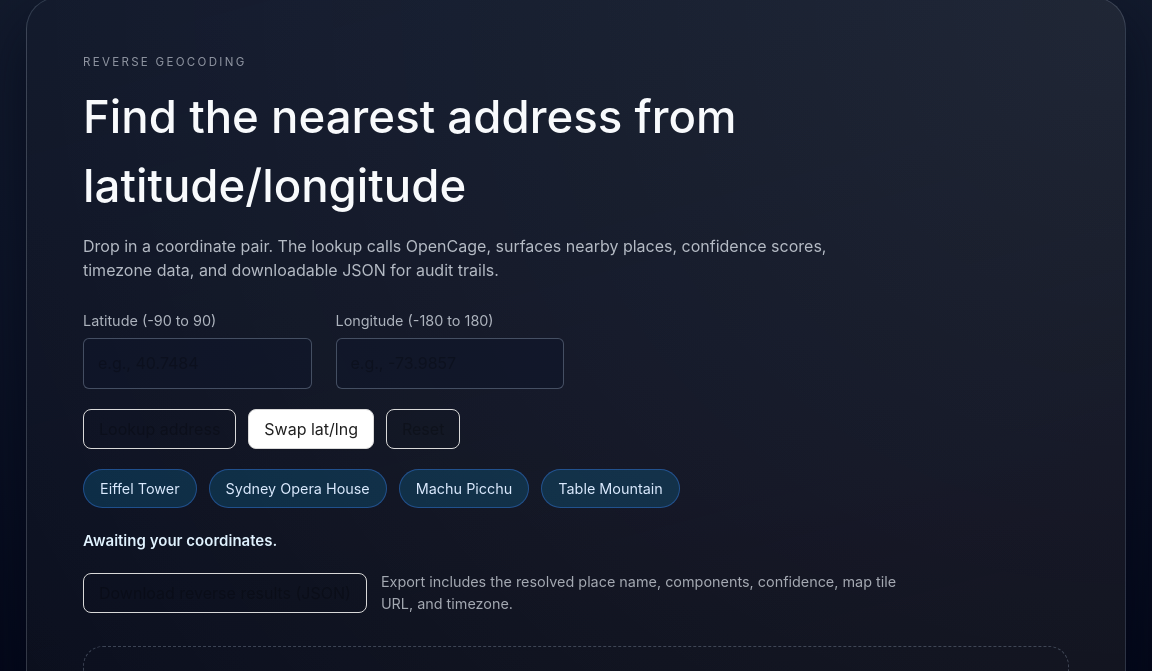
Test: ReverseGeocodeDemo › handles API failures gracefully (negative)
The image size is (1152, 671).
Type "34" into the field labelled "Latitude (-90 to 90)" at x=197, y=363, box [83,338,312,389]
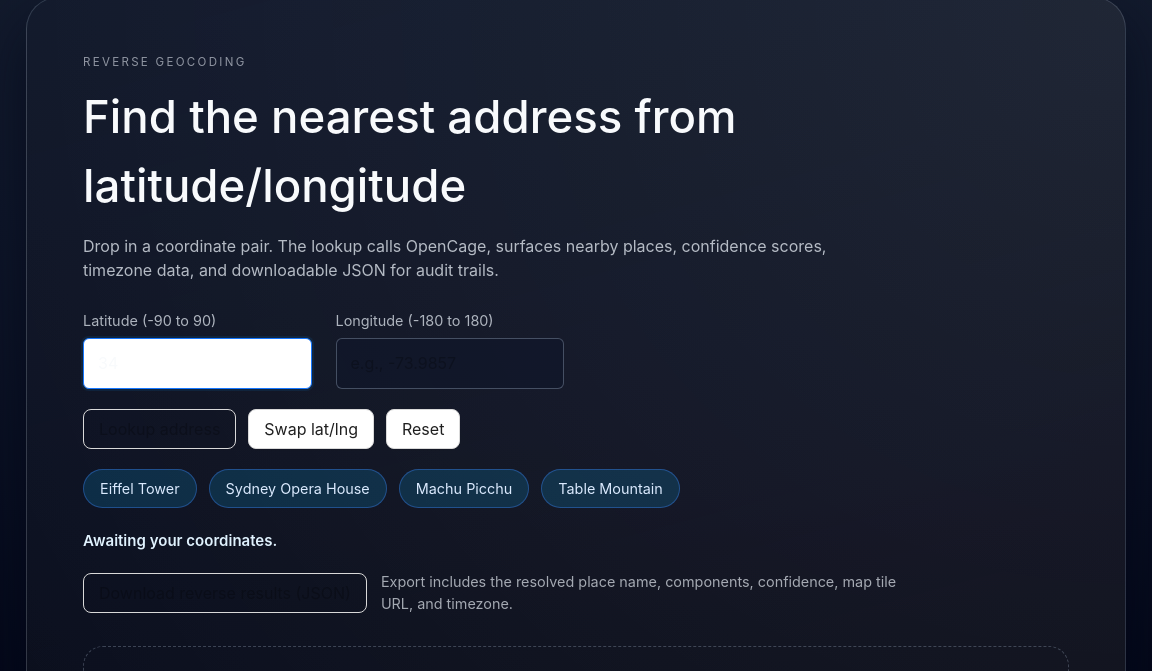
Type "-118" into the field labelled "Longitude (-180 to 180)" at x=450, y=363, box [336,338,564,389]
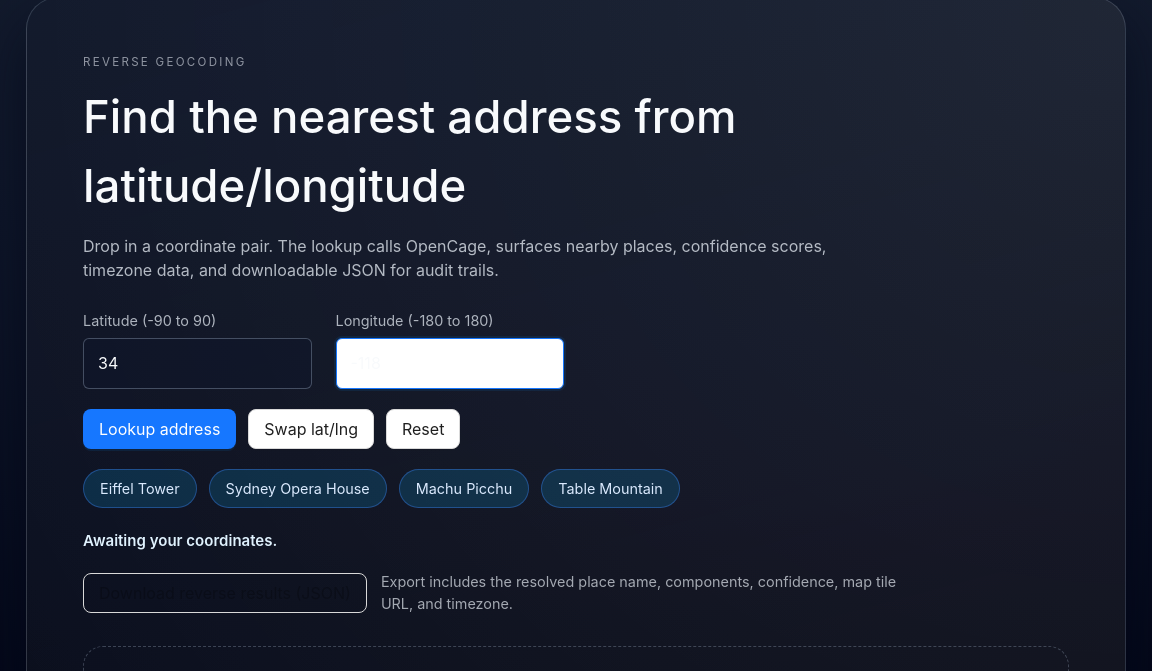
Click the button "Lookup address" at x=160, y=429, box [83,409,236,449]
(page scrolled)
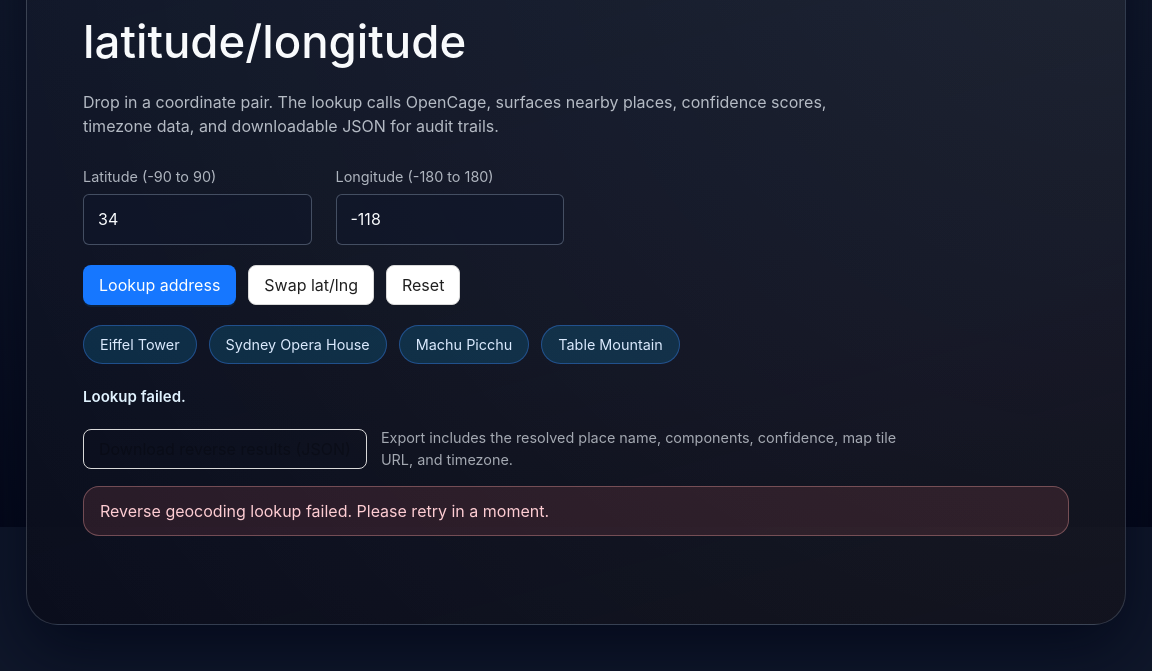
Expected: the text "Reverse geocoding lookup failed. Please retry in a moment." is shown, [83,486,1069,536]
